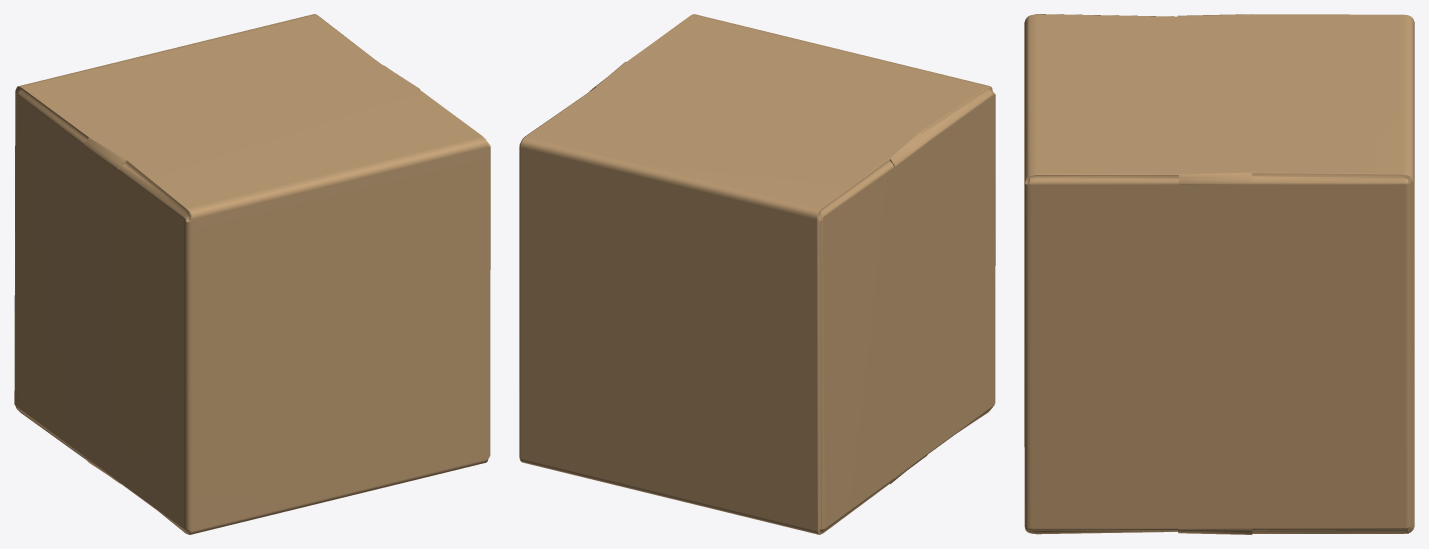
File: box_cardboard_b01.glb
3 views of the same model, side by side, from view 1: azimuth 30°, elevation 25°; view 2: azimuth 150°, elevation 25°; view 3: azimuth 270°, elevation 25° (orthographic). The views are drawn at different scales.
Bounding box in the file's own units: 0.5103 × 0.5207 × 0.5099.
